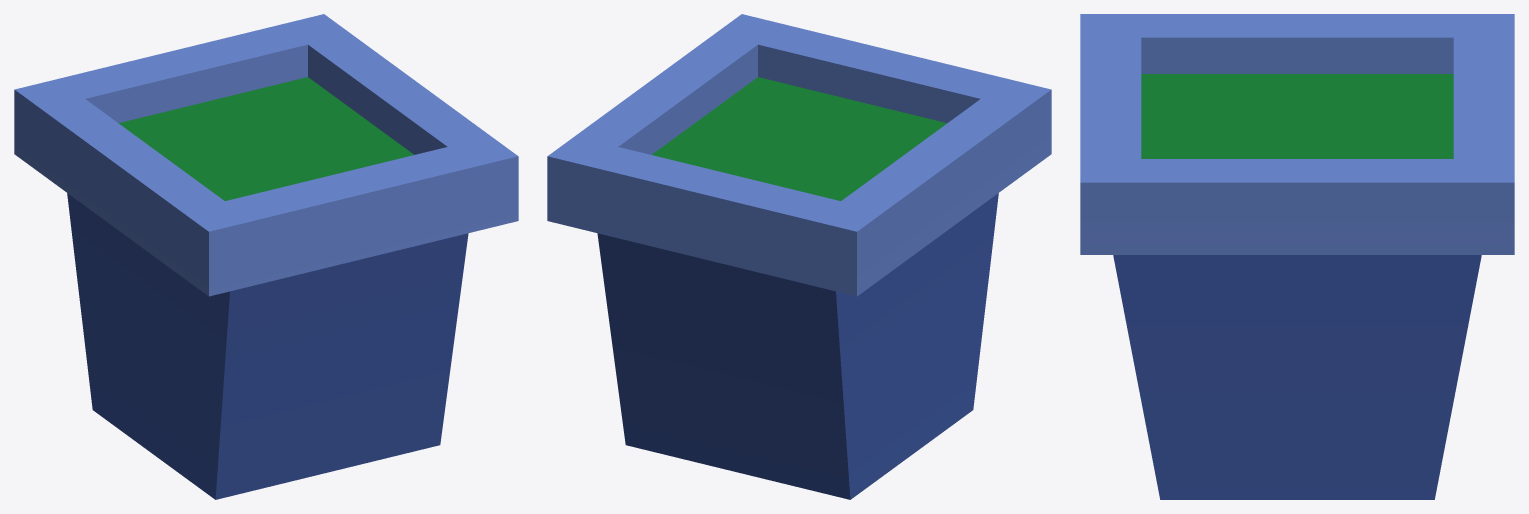
Rendered from FlowerPot_5_3_E.fbx.
The picture shows the model from 3 angles, left to right: view 1: azimuth 30°, elevation 25°; view 2: azimuth 150°, elevation 25°; view 3: azimuth 270°, elevation 25°; orthographic projection. The views are drawn at different scales.
Visible parts, largest first — view 1: FlowerPot_5_3_E; view 2: FlowerPot_5_3_E; view 3: FlowerPot_5_3_E.
Part boxes in pixels (left/top/right/bottom): FlowerPot_5_3_E: left=14, top=14, right=518, bottom=499; FlowerPot_5_3_E: left=547, top=14, right=1051, bottom=499; FlowerPot_5_3_E: left=1080, top=14, right=1514, bottom=499.
Bounding box in the file's own units: 32.46 × 30.52 × 35.3.
